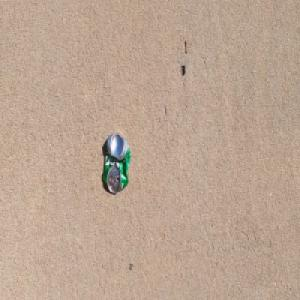SodaCan: (102, 131, 132, 195)
